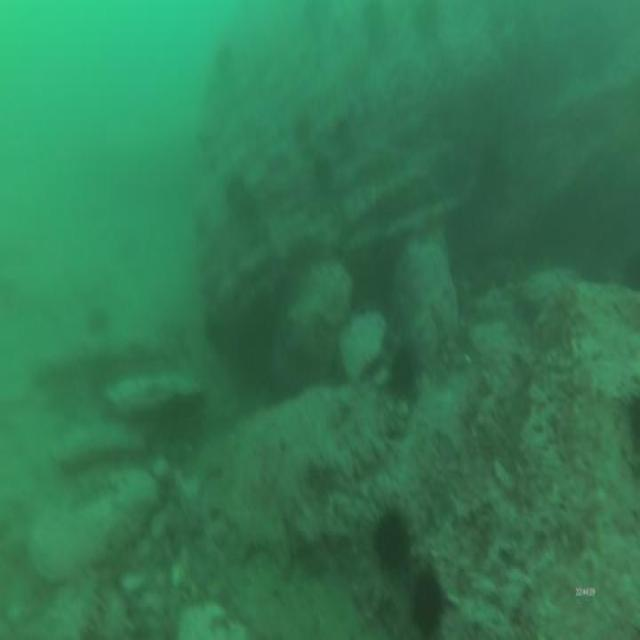echinus: (373, 501, 415, 577), (408, 565, 448, 640), (387, 341, 422, 403), (311, 147, 338, 201), (358, 0, 388, 46), (222, 176, 250, 222), (415, 0, 441, 47), (84, 304, 114, 342), (290, 107, 316, 147), (210, 36, 234, 79), (302, 0, 334, 27)
